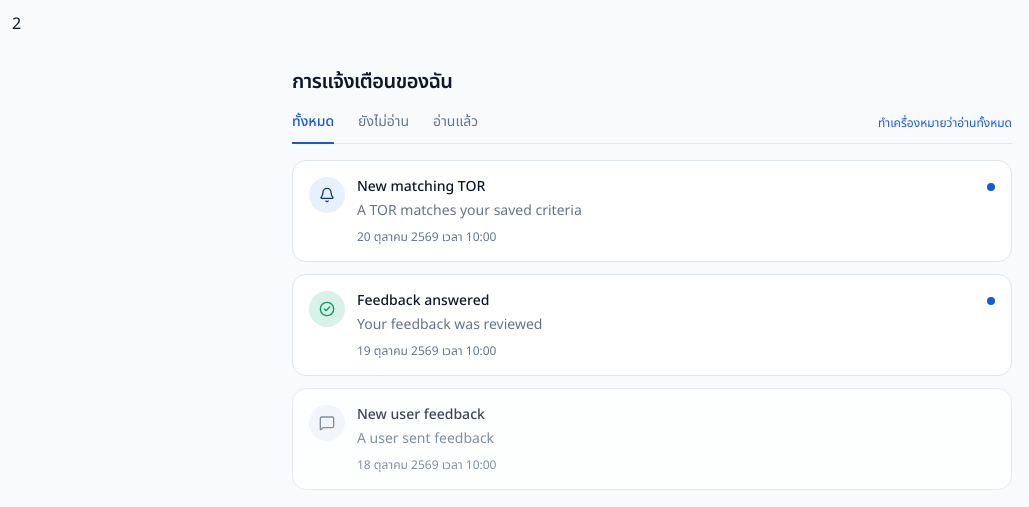
Test: Notifications page › marks an unread notification as read and updates the unread count
The image size is (1029, 507).
Check: the text "2" is shown, box [12, 12, 21, 36]
Step 1. Click the list item "New matching TOR" → click(652, 211), box [292, 160, 1012, 262]
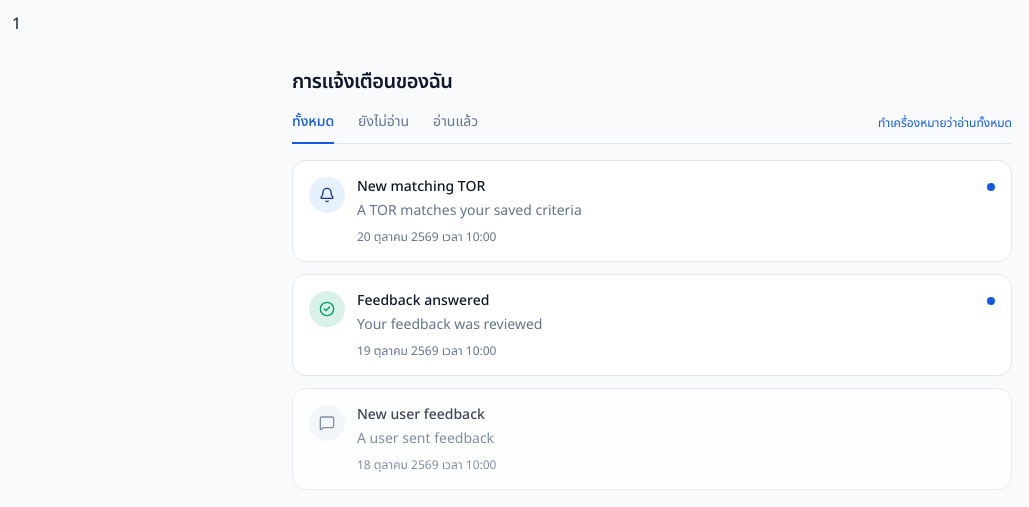
Check: the text with test id "unread-count" reads "1", box [12, 12, 21, 36]
